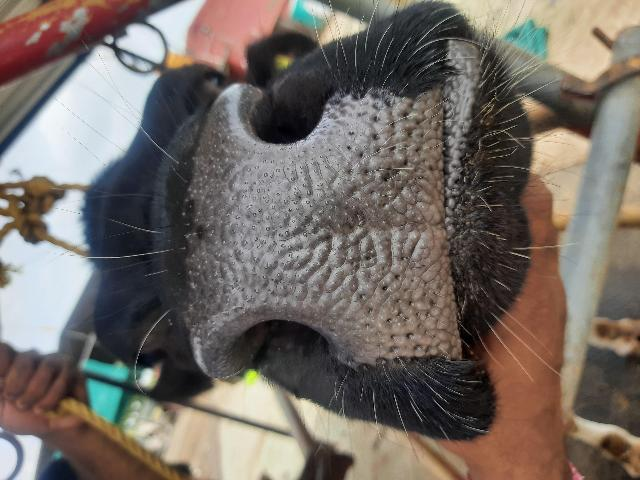Muzzle: (207, 147, 443, 317)
